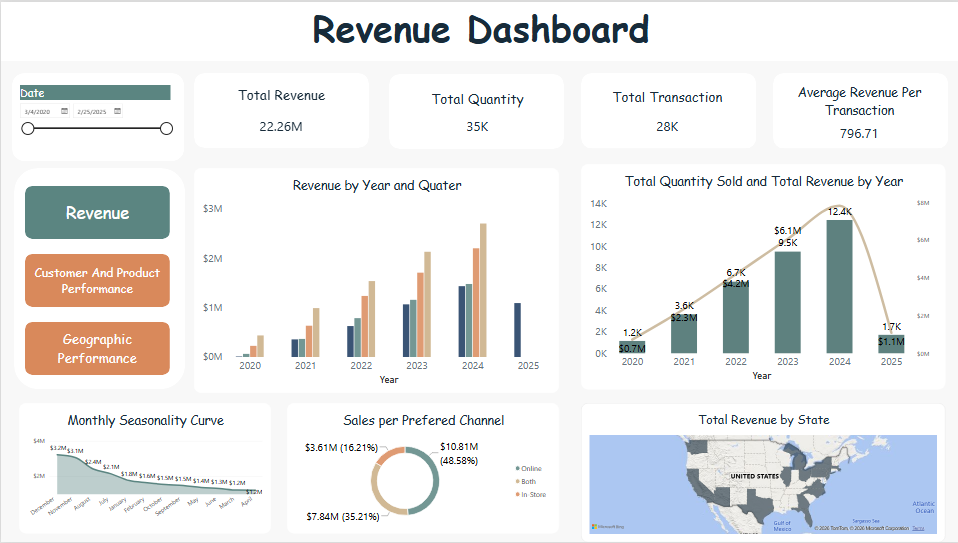

The page's visual inventory and layout, read from the dashboard file:
{"tool":"powerbi","page":{"name":"Revenue","canvas":[1920,1080],"ordinal":0},"visuals":[{"type":"group","id":"g1","title":"Group 3","box":[22.6,141.2,344.4,176.5],"z":0,"group":"g2"},{"type":"group","id":"g2","title":"Group 1","box":[22.6,141.2,344.4,176.5],"z":0},{"type":"shape","box":[22.6,141.2,344.4,176.5],"z":0,"group":"g1"},{"type":"shape","box":[386.9,142.4,350,150],"z":0,"group":"g4"},{"type":"shape","box":[1160.8,142.4,350.8,150.9],"z":0,"group":"g7"},{"type":"shape","box":[1543.5,142.4,350.8,150.9],"z":0,"group":"g8"},{"type":"shape","box":[776,144.6,350,150],"z":0,"group":"g5"},{"type":"shape","box":[25.5,331.7,342.3,442.2],"z":0,"group":"g6"},{"type":"slicer","title":"Total Revenue","fields":{"Values":["Cleaned_retail_data.transaction_date"]},"box":[31.1,164.6,316.8,140.3],"z":500,"group":"g2"},{"type":"textbox","box":[0,0,1920,118.4],"z":1000},{"type":"cardVisual","title":"Average Revenue Per Transaction","fields":{"Data":["Cleaned_retail_data.Average Revenue per Transaction"]},"box":[1585,162.7,261.5,112.7],"z":2000,"group":"g8"},{"type":"cardVisual","title":"Total Revenue","fields":{"Data":["Cleaned_retail_data.Total Revenue"]},"box":[410.3,165.8,301.9,106.3],"z":2000,"group":"g4"},{"type":"cardVisual","title":"Total Transaction","fields":{"Data":["Cleaned_retail_data.Total Transactions"]},"box":[1182.1,170,301.9,99.9],"z":2000,"group":"g7"},{"type":"cardVisual","title":"Total Quantity","fields":{"Data":["Cleaned_retail_data.Total Quantity"]},"box":[803.6,174.4,297.6,91.4],"z":2000,"group":"g5"},{"type":"lineStackedColumnComboChart","title":"Total Quantity Sold and Total Revenue by Year","fields":{"Category":["Cleaned_retail_data.transaction_date.Variation.Date Hierarchy.Year","Cleaned_retail_data.transaction_date.Variation.Date Hierarchy.Quarter","Cleaned_retail_data.transaction_date.Variation.Date Hierarchy.Month","Cleaned_retail_data.transaction_date.Variation.Date Hierarchy.Day"],"Y":["Sum(Cleaned_retail_data.quantity)"],"Y2":["Sum(Cleaned_retail_data.revenue)"]},"box":[1160.8,323.1,729.2,450.7],"z":2000},{"type":"group","id":"g3","title":"Group 2","box":[776,144.6,350,150],"z":3000},{"type":"clusteredColumnChart","title":"Revenue by Year and Quater ","fields":{"Category":["Cleaned_retail_data.year"],"Series":["Cleaned_retail_data.quarter"],"Y":["Sum(Cleaned_retail_data.revenue)"]},"box":[386.9,331.7,730,450],"z":4000},{"type":"group","id":"g4","title":"Group 3","box":[386.9,142.4,350,150],"z":4001,"group":"g9"},{"type":"group","id":"g5","title":"Group 3","box":[776,144.6,350,150],"z":4001,"group":"g3"},{"type":"group","id":"g6","title":"Group 3","box":[25.5,331.7,342.3,442.2],"z":4001,"group":"g10"},{"type":"group","id":"g7","title":"Group 3","box":[1160.8,142.4,350.8,150.9],"z":5000},{"type":"group","id":"g8","title":"Group 3","box":[1543.5,142.4,350.8,150.9],"z":6000},{"type":"group","id":"g9","title":"Group 2","box":[386.9,142.4,350,150],"z":7000},{"type":"donutChart","title":"Sales per Prefered Channel","fields":{"Category":["Cleaned_retail_data.preferred_channel"],"Y":["Sum(Cleaned_retail_data.revenue)"]},"box":[571.9,801.5,544.3,261.5],"z":9000},{"type":"areaChart","title":"Monthly Seasonality Curve","fields":{"Category":["Cleaned_retail_data.month"],"Y":["Sum(Cleaned_retail_data.revenue)"]},"box":[36.1,801.5,503.9,261.5],"z":10000},{"type":"group","id":"g10","title":"Group 2","box":[25.5,331.7,342.3,442.2],"z":11000},{"type":"actionButton","box":[48.7,367.9,289.8,105.8],"z":12000},{"type":"actionButton","box":[48.7,503.9,289.8,105.8],"z":13000},{"type":"actionButton","box":[48.7,640,289.8,105.8],"z":14000},{"type":"filledMap","title":"Total Revenue by State","fields":{"Category":["Cleaned_retail_data.state "]},"box":[1160.8,801.5,729.2,278.5],"z":14001}]}

Visuals, with their boxes in screenshot pixels (x1, y1, x2, y2), scaled from the page's 1920x1080 canvas onto the 958x543 screenshot:
"Group 3" group: pyautogui.locateOnScreen(11, 71, 183, 160)
"Group 1" group: pyautogui.locateOnScreen(11, 71, 183, 160)
shape: pyautogui.locateOnScreen(11, 71, 183, 160)
shape: pyautogui.locateOnScreen(193, 72, 368, 147)
shape: pyautogui.locateOnScreen(579, 72, 754, 147)
shape: pyautogui.locateOnScreen(770, 72, 945, 147)
shape: pyautogui.locateOnScreen(387, 73, 562, 148)
shape: pyautogui.locateOnScreen(13, 167, 184, 389)
"Total Revenue" slicer: pyautogui.locateOnScreen(16, 83, 174, 153)
textbox: pyautogui.locateOnScreen(0, 0, 957, 60)
"Average Revenue Per Transaction" cardVisual: pyautogui.locateOnScreen(791, 82, 921, 138)
"Total Revenue" cardVisual: pyautogui.locateOnScreen(205, 83, 355, 137)
"Total Transaction" cardVisual: pyautogui.locateOnScreen(590, 85, 740, 136)
"Total Quantity" cardVisual: pyautogui.locateOnScreen(401, 88, 549, 134)
"Total Quantity Sold and Total Revenue by Year" lineStackedColumnComboChart: pyautogui.locateOnScreen(579, 162, 943, 389)
"Group 2" group: pyautogui.locateOnScreen(387, 73, 562, 148)
"Revenue by Year and Quater " clusteredColumnChart: pyautogui.locateOnScreen(193, 167, 557, 393)
"Group 3" group: pyautogui.locateOnScreen(193, 72, 368, 147)
"Group 3" group: pyautogui.locateOnScreen(387, 73, 562, 148)
"Group 3" group: pyautogui.locateOnScreen(13, 167, 184, 389)
"Group 3" group: pyautogui.locateOnScreen(579, 72, 754, 147)
"Group 3" group: pyautogui.locateOnScreen(770, 72, 945, 147)
"Group 2" group: pyautogui.locateOnScreen(193, 72, 368, 147)
"Sales per Prefered Channel" donutChart: pyautogui.locateOnScreen(285, 403, 557, 534)
"Monthly Seasonality Curve" areaChart: pyautogui.locateOnScreen(18, 403, 269, 534)
"Group 2" group: pyautogui.locateOnScreen(13, 167, 184, 389)
actionButton: pyautogui.locateOnScreen(24, 185, 169, 238)
actionButton: pyautogui.locateOnScreen(24, 253, 169, 307)
actionButton: pyautogui.locateOnScreen(24, 322, 169, 375)
"Total Revenue by State" filledMap: pyautogui.locateOnScreen(579, 403, 943, 542)
